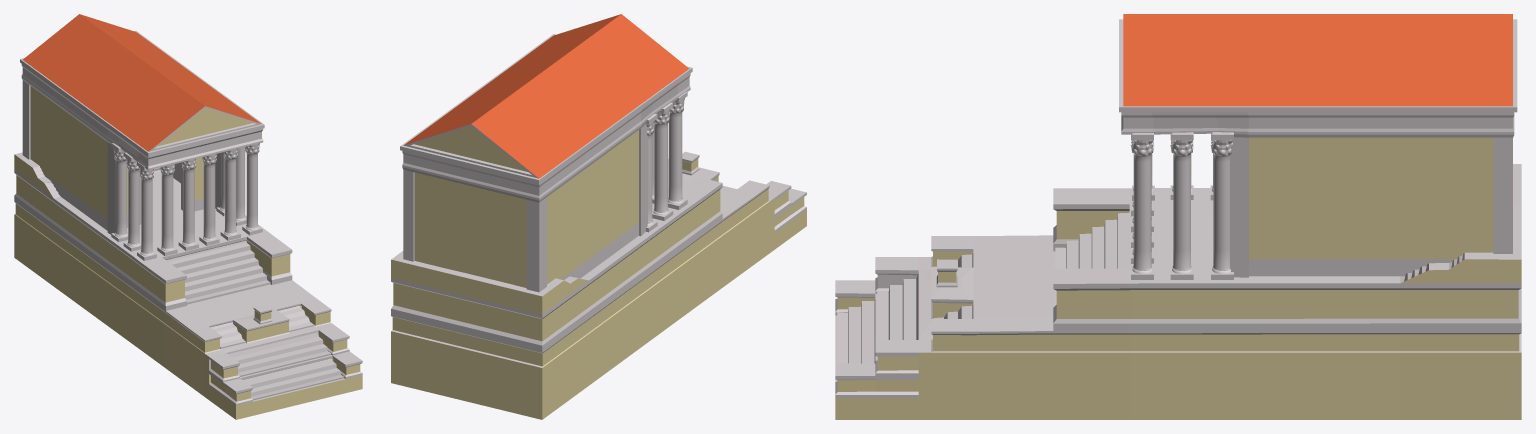
File: Herrenbruennchen_00003.fbx
3 renders of one model, left to right at view 1: azimuth 30°, elevation 25°; view 2: azimuth 150°, elevation 25°; view 3: azimuth 270°, elevation 25°, orthographic. The views are drawn at different scales.
Visible parts, largest first — view 1: Base, roof, Temple, Stairs, Column.003, Column.005, Column, Column.001, Column.002, Column.007, Column.006, Column.004 (+1 smaller); view 2: Base, Temple, roof, Column, Column.001, Column.002; view 3: Base, Temple, roof, Stairs, Column.007, Column.008, Column.009.
Part boxes in pixels (x1,y1,x2,y2): Base: [14, 152, 362, 419]; roof: [20, 14, 264, 156]; Temple: [21, 64, 263, 234]; Stairs: [166, 240, 344, 400]; Column.003: [157, 164, 177, 256]; Column.005: [199, 154, 219, 245]; Column: [137, 161, 156, 260]; Column.001: [123, 152, 141, 251]; Column.002: [111, 142, 128, 242]; Column.007: [242, 138, 262, 235]; Column.006: [220, 148, 240, 240]; Column.004: [178, 159, 198, 250]; Base: [391, 151, 806, 419]; Temple: [402, 73, 690, 292]; roof: [400, 14, 692, 183]; Column: [668, 91, 687, 209]; Column.001: [652, 102, 673, 220]; Column.002: [646, 113, 657, 232]; Base: [835, 164, 1521, 419]; Temple: [1121, 112, 1514, 277]; roof: [1119, 14, 1517, 112]; Stairs: [837, 212, 1129, 380]; Column.007: [1131, 133, 1154, 279]; Column.008: [1170, 132, 1193, 279]; Column.009: [1210, 132, 1233, 279].
Size of the model in its own units: 2271 by 3952 by 6882.
